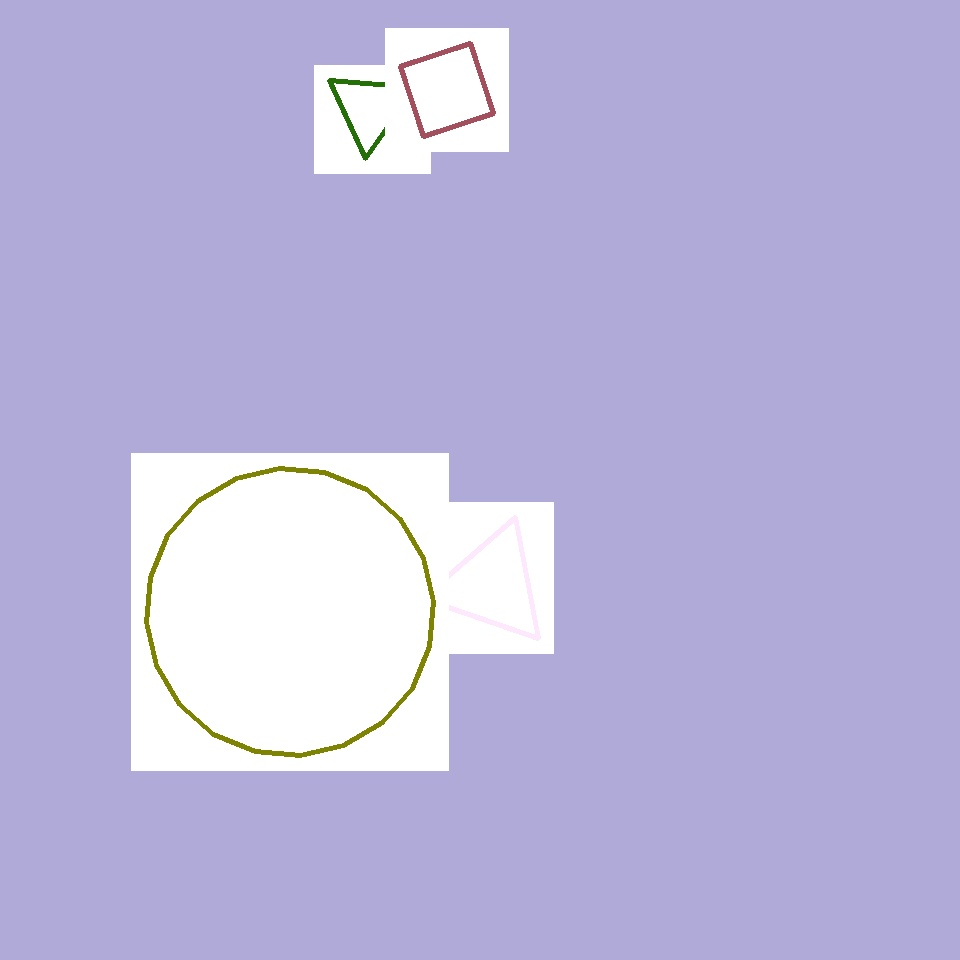circle: (434, 524, 550, 646), (327, 70, 413, 148)
square: (70, 128, 354, 410), (236, 153, 466, 384), (400, 44, 494, 136)
triangle: (146, 468, 434, 755)
